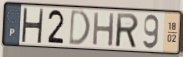2: (47, 9, 65, 46)
9: (142, 13, 160, 50)
D: (67, 8, 91, 47)
H: (20, 6, 45, 45), (91, 11, 116, 48)
R: (116, 12, 140, 50)
